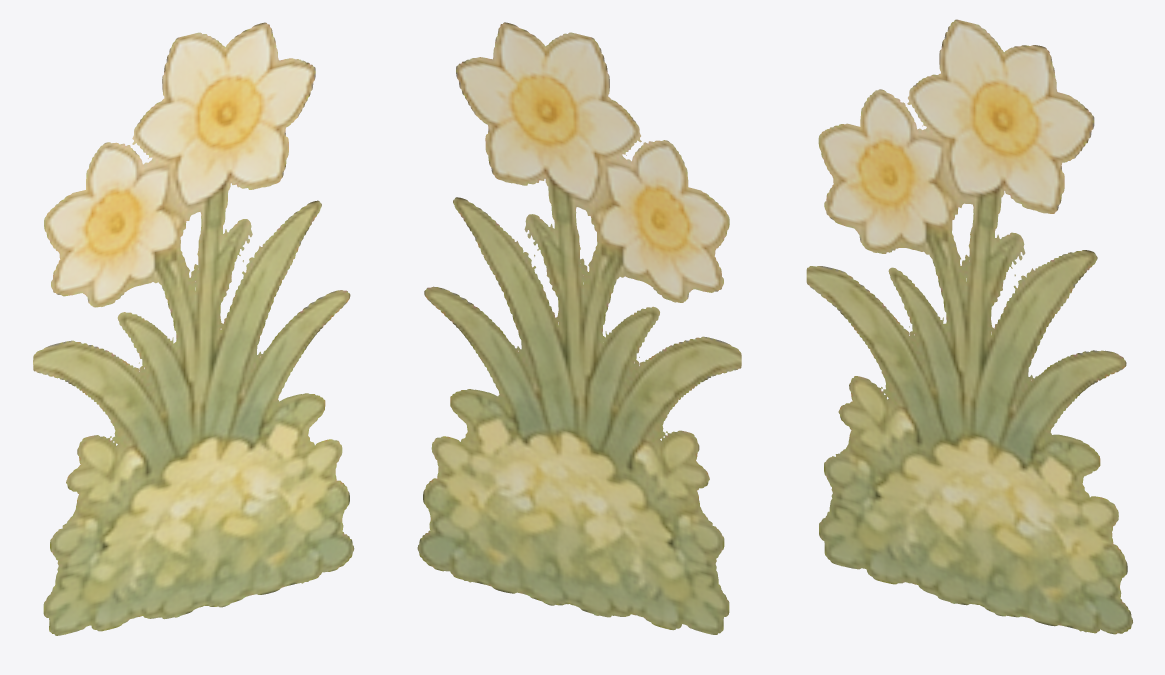
Rendered from garden_daffodil.glb.
3 views of the same model, side by side, from view 1: azimuth 30°, elevation 25°; view 2: azimuth 150°, elevation 25°; view 3: azimuth 330°, elevation 25° (orthographic).
Visible parts, largest first — view 1: daffodil / painted relief; view 2: daffodil / painted relief; view 3: daffodil / painted relief.
Boxes of the visible parts, x1,y1,x2,y2 form: daffodil / painted relief: [33, 22, 354, 635]; daffodil / painted relief: [417, 22, 741, 634]; daffodil / painted relief: [806, 19, 1132, 634].
Size of the model in its own units: 3.2 by 5.03 by 0.072.
1 material, 1 textured.
